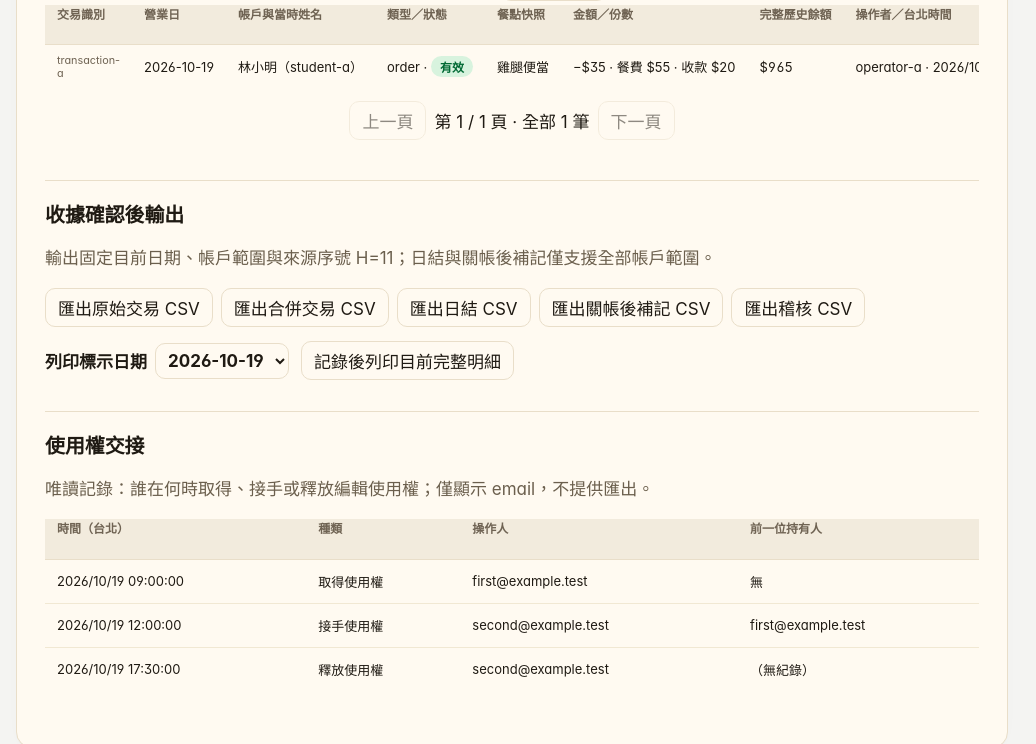
it: CloudReportPage › cleans a confirmed print surface when window.print throws synchronously
(page scrolled)
Step 1. Click the button "記錄後列印目前完整明細" → [408, 361], box 301,341 -> 514,380
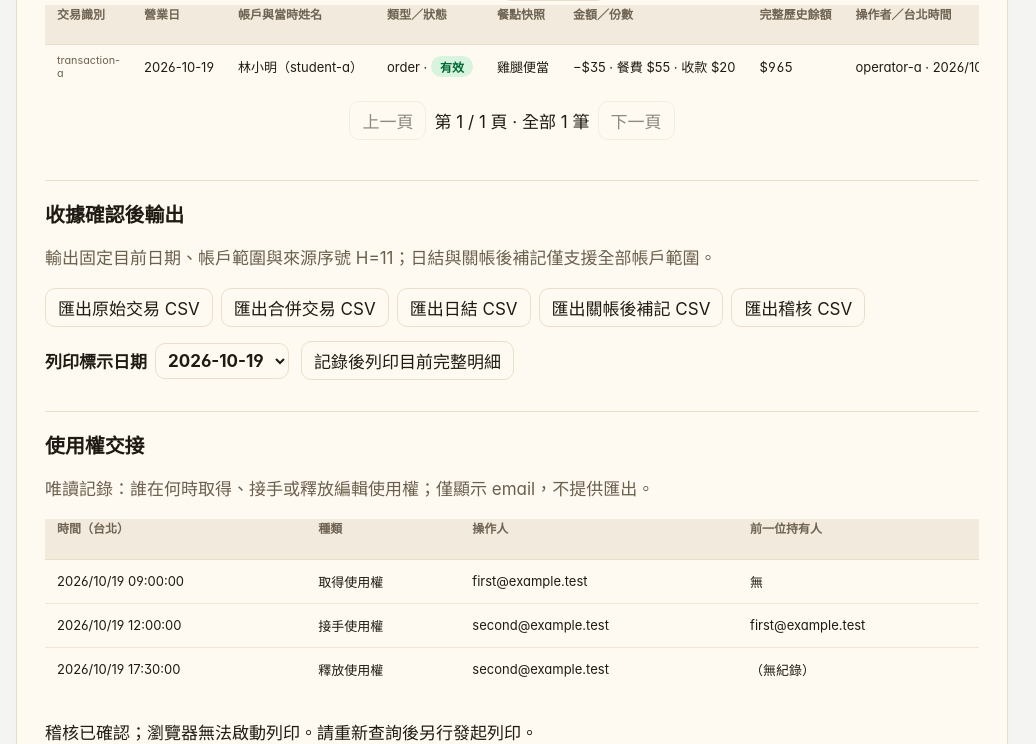
Check: the text "稽核已確認；瀏覽器無法啟動列印。請重新查詢後另行發起列印。" is shown, box 45,723 -> 538,743
